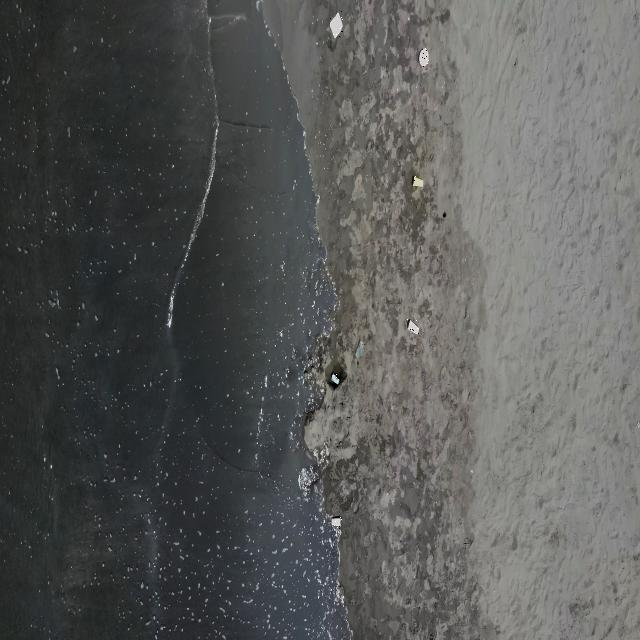take-away-containers: (330, 11, 343, 38), (419, 48, 429, 68)
takeaway-cup: (407, 319, 420, 335), (331, 514, 342, 530), (355, 341, 363, 358), (412, 176, 424, 187), (331, 372, 340, 386)
